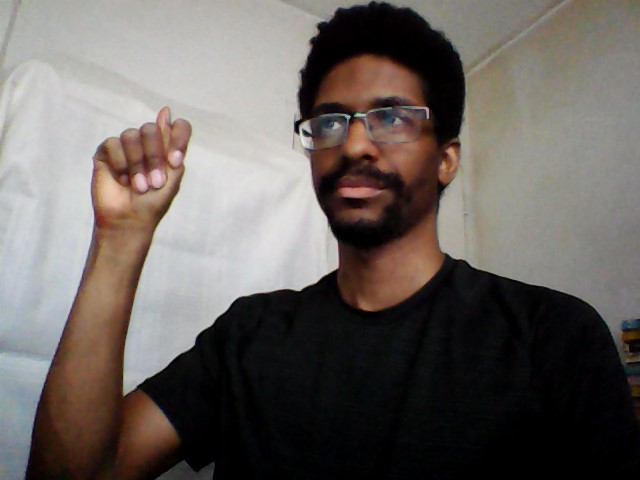t: (86, 101, 196, 242)
